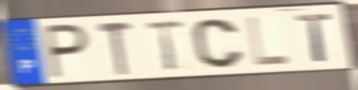C: (190, 17, 246, 70)
L: (245, 15, 292, 68)
P: (42, 22, 91, 81)
T: (144, 18, 186, 73), (95, 21, 136, 77), (294, 12, 335, 64)
